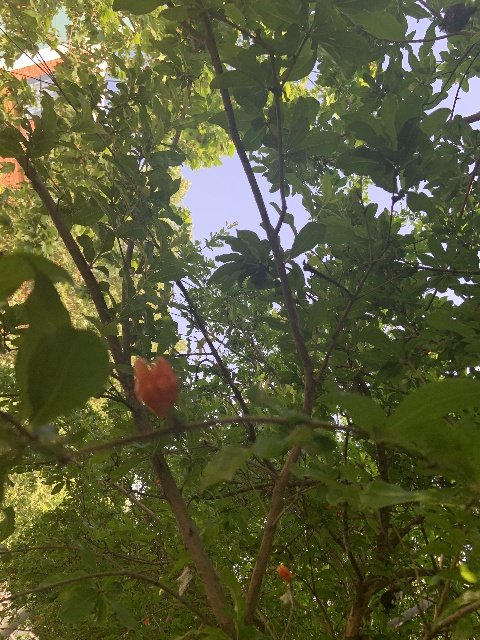bud: (276, 564, 291, 582)
flower: (132, 354, 179, 417)
